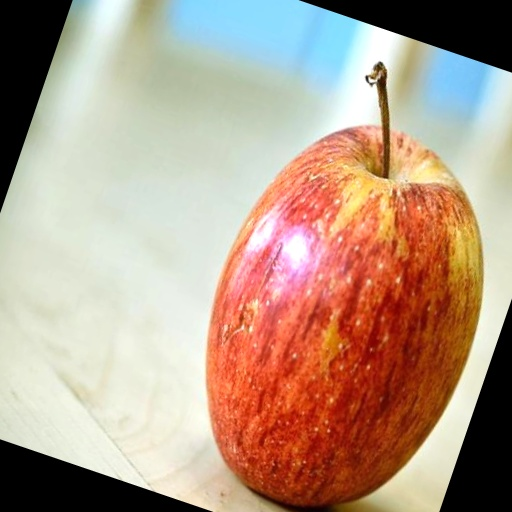fruit: (369, 218, 512, 512)
